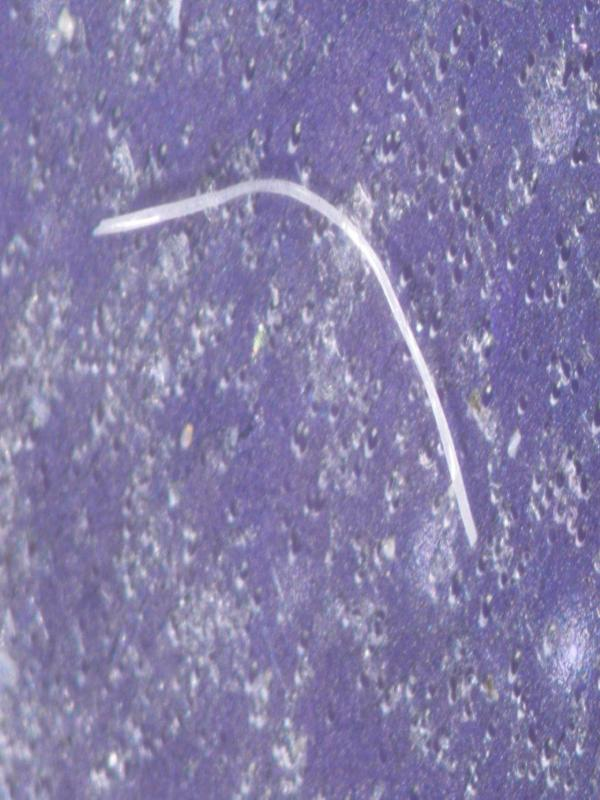microplastic: (1, 1, 598, 797), (91, 172, 479, 552)
